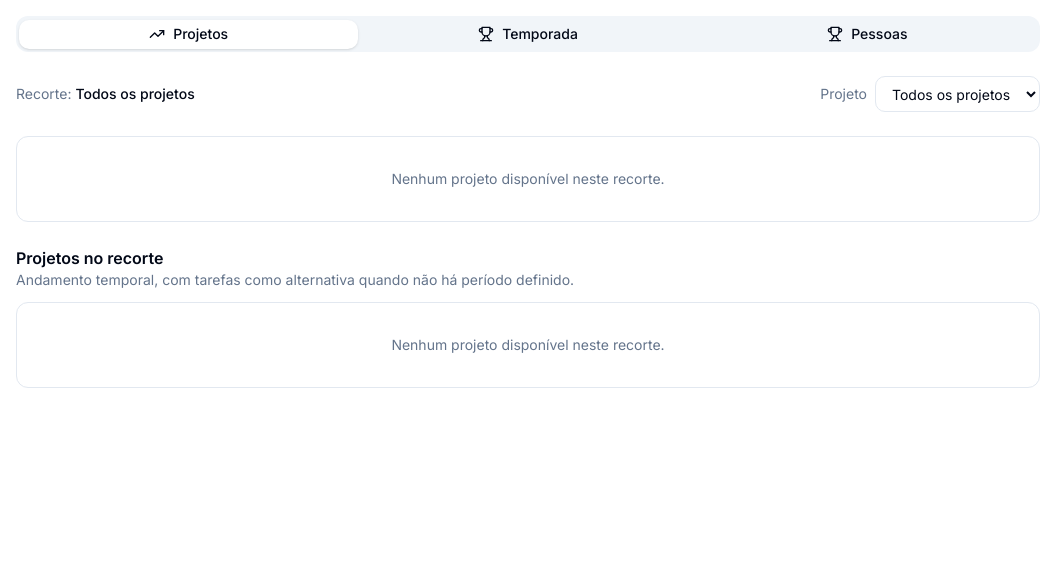
Scenario: aba Temporada (plan-v20 S02, DEC-255) › temporada fechada sem linha é quadro vazio com aviso, não o quadro em curso (CA8 espelhada)
Press the mouse on the tab "Temporada" at (528, 34), box [358,20,698,48]
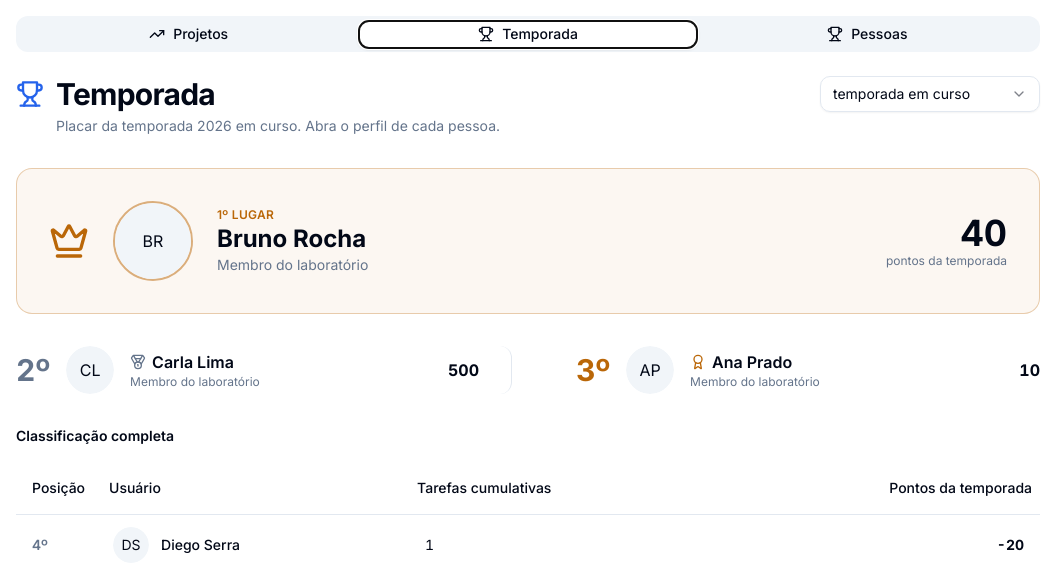
Result: the column heading "Pontos da temporada" is shown at [716,462,1040,514]
Click the dropdown named "Ano da temporada" at (930, 94), box [820,76,1040,112]
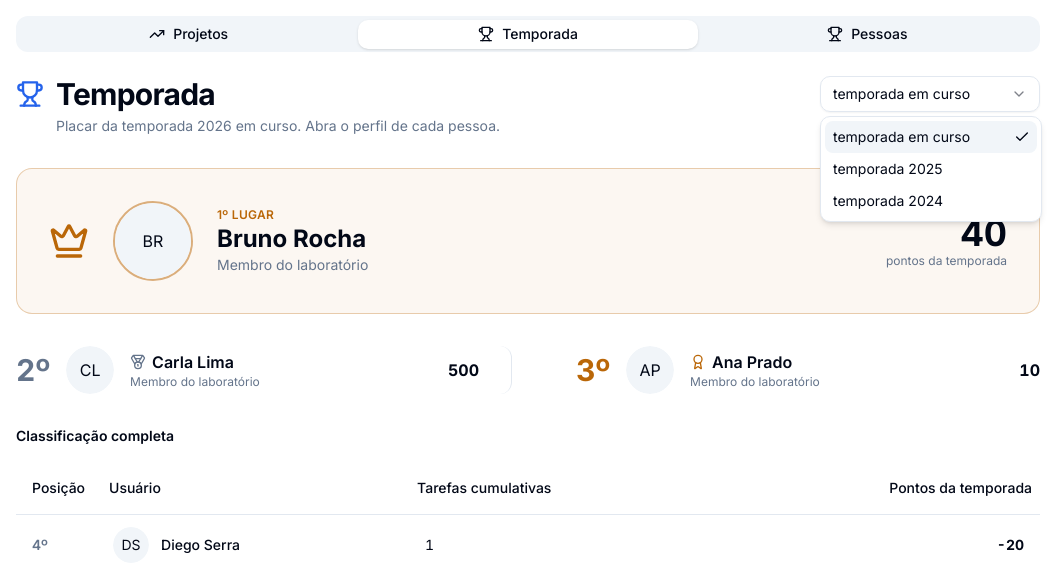
Click the option "temporada 2024" at (888, 200), box [833,192,943,209]
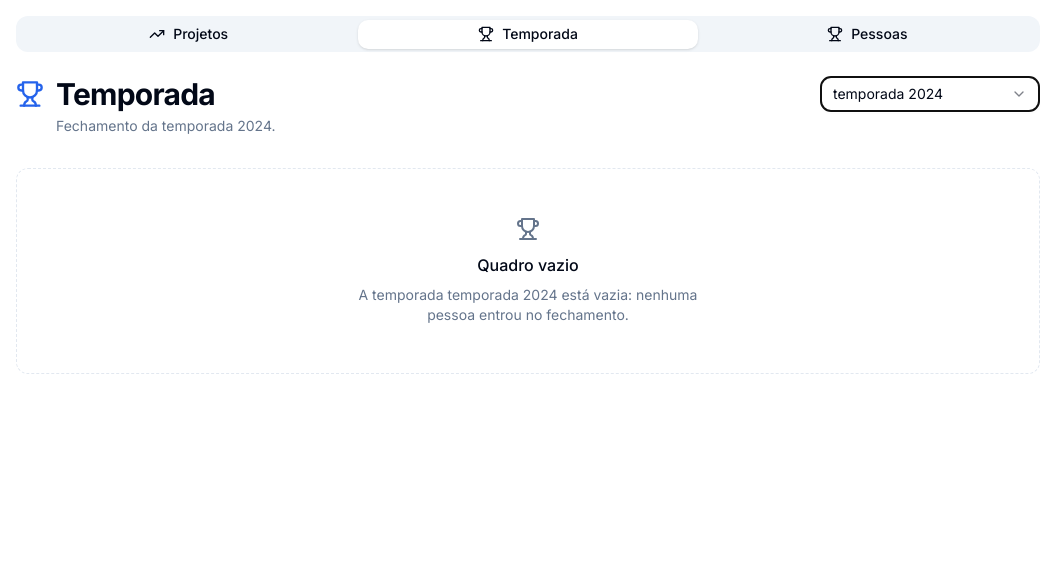
Result: the text "temporada 2024 está vazia" is shown at [358,286,698,323]
Result: the link "Carla Lima" is gone
